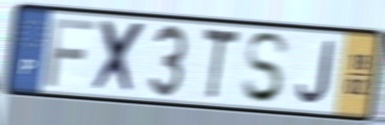3: (146, 22, 190, 100)
F: (44, 16, 99, 90)
J: (295, 38, 336, 106)
S: (240, 31, 292, 107)
T: (200, 25, 242, 104)
X: (90, 17, 149, 97)
